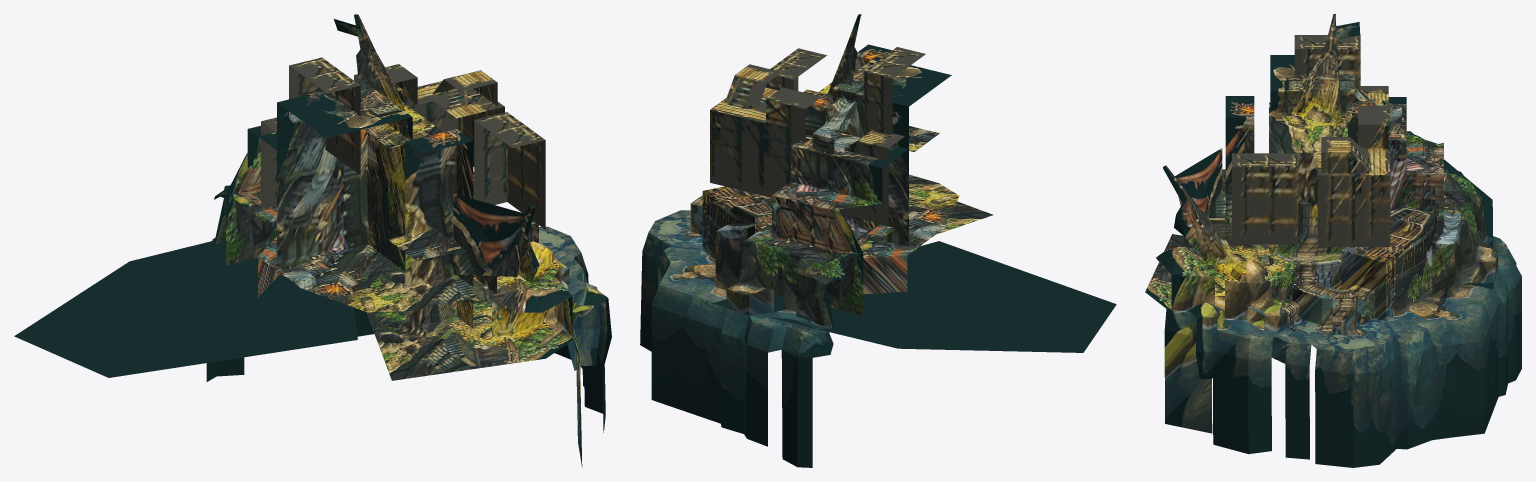
The model's file is F_GuildDepot_03.fbx.
3 views of the same model, side by side, from view 1: azimuth 30°, elevation 25°; view 2: azimuth 150°, elevation 25°; view 3: azimuth 270°, elevation 25° (orthographic). The views are drawn at different scales.
Visible parts, largest first — view 1: F_GuildDepot_03, T_BuildForm_02 (3), T_BuildForm_01, T_BuildForm_02 (4), T_BuildForm_03; view 2: F_GuildDepot_03, T_BuildForm_01, T_BuildForm_02 (4), T_BuildForm_03, T_BuildForm_02 (3); view 3: F_GuildDepot_03, T_BuildForm_01, T_BuildForm_02 (3), T_BuildForm_02 (4), T_BuildForm_03.
Part boxes in pixels (left/top/right/bottom): F_GuildDepot_03: left=14, top=14, right=611, bottom=467; T_BuildForm_02 (3): left=474, top=112, right=545, bottom=229; T_BuildForm_01: left=354, top=64, right=504, bottom=166; T_BuildForm_02 (4): left=289, top=57, right=360, bottom=175; T_BuildForm_03: left=261, top=117, right=276, bottom=208; F_GuildDepot_03: left=640, top=14, right=1116, bottom=467; T_BuildForm_01: left=710, top=64, right=821, bottom=197; T_BuildForm_02 (4): left=863, top=47, right=925, bottom=147; T_BuildForm_03: left=840, top=130, right=904, bottom=225; T_BuildForm_02 (3): left=766, top=48, right=826, bottom=90; F_GuildDepot_03: left=1145, top=14, right=1521, bottom=467; T_BuildForm_01: left=1317, top=105, right=1390, bottom=246; T_BuildForm_02 (3): left=1232, top=153, right=1298, bottom=244; T_BuildForm_02 (4): left=1294, top=35, right=1360, bottom=90; T_BuildForm_03: left=1360, top=86, right=1388, bottom=105.
Size of the model in its own units: 2.37 by 1.84 by 1.69.
2 materials, 2 textured.
